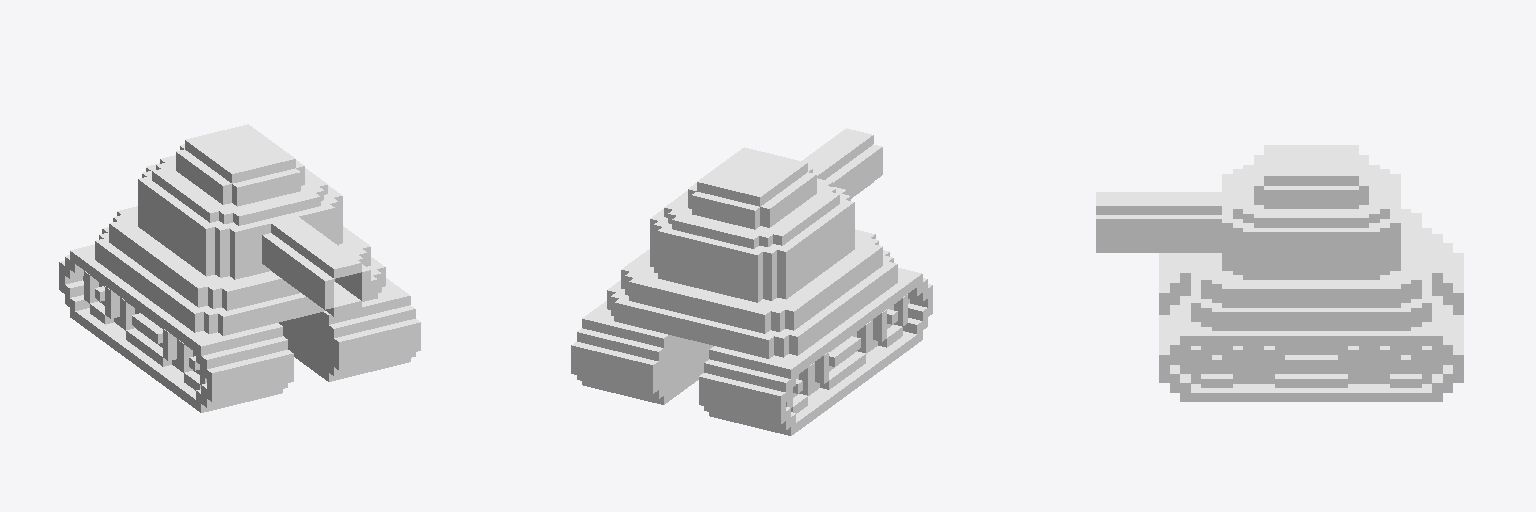
Rendered from obj_tank.obj.
The picture shows the model from 3 angles: view 1: azimuth 30°, elevation 25°; view 2: azimuth 150°, elevation 25°; view 3: azimuth 270°, elevation 25°; orthographic projection.
Bounding box in the file's own units: 23 × 20 × 35.